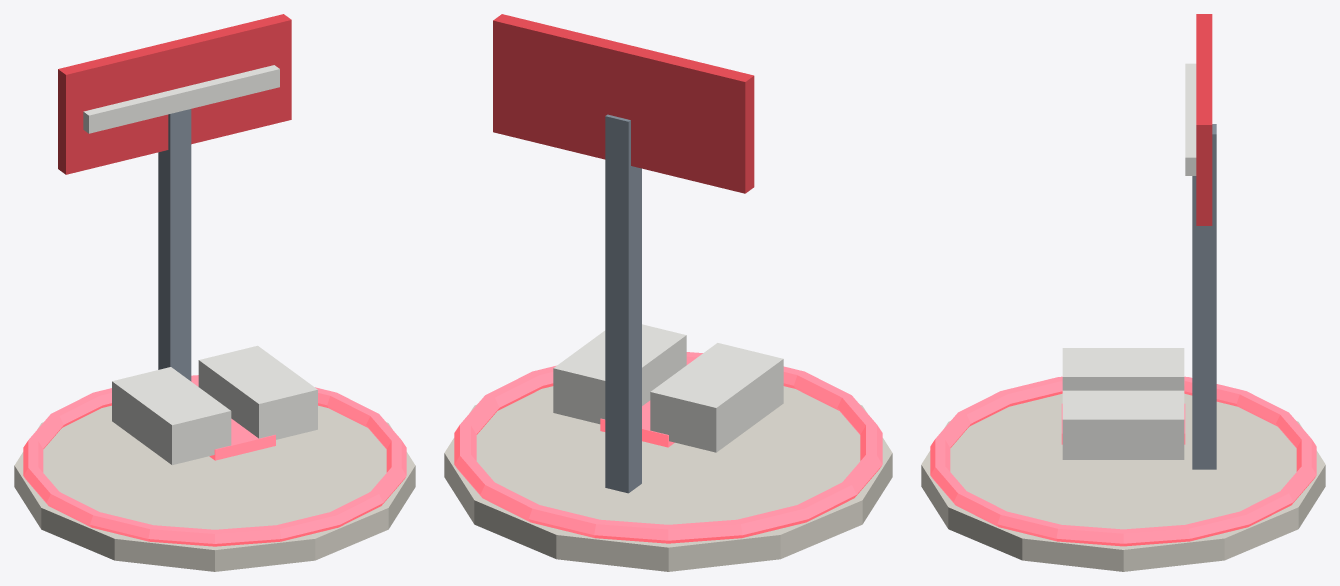
File: pickup-push.glb
3 views of the same model, side by side, from view 1: azimuth 30°, elevation 25°; view 2: azimuth 150°, elevation 25°; view 3: azimuth 270°, elevation 25° (orthographic). The views are drawn at different scales.
Parts seen in each view (by area): view 1: pickup-push; view 2: pickup-push; view 3: pickup-push.
Part boxes in pixels (x1=…): pickup-push: x1=14, y1=14, x2=415, y2=571; pickup-push: x1=444, y1=14, x2=892, y2=571; pickup-push: x1=921, y1=14, x2=1325, y2=571.
Size of the model in its own units: 2 by 2.28 by 2.
